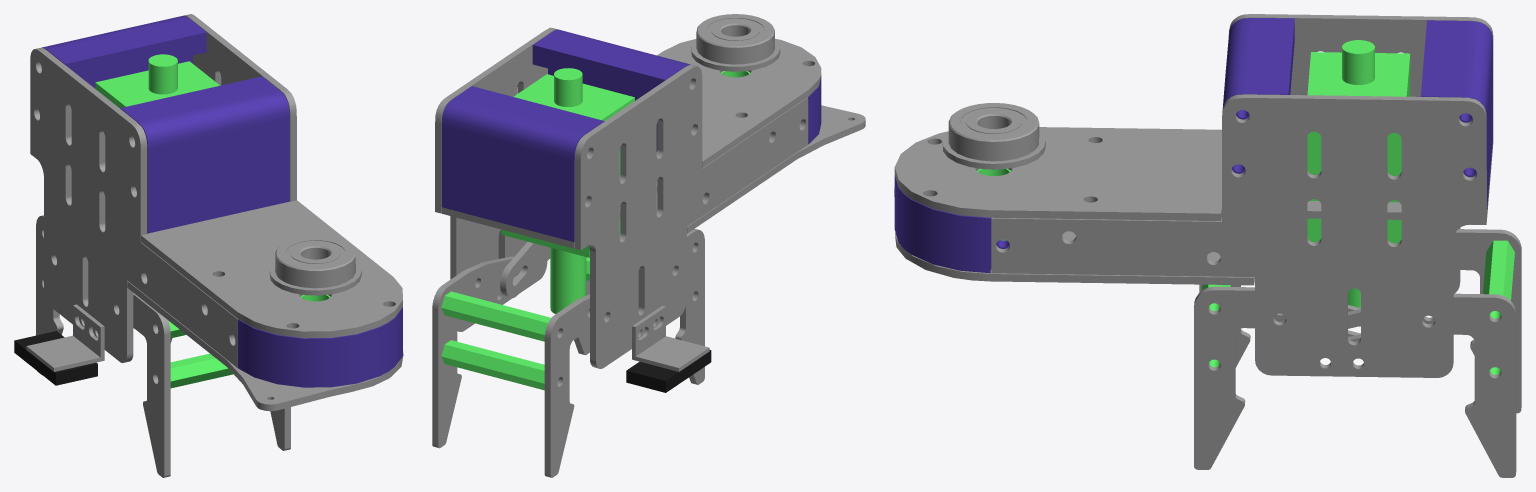
File: M3_Gripper.fbx
3 views of the same model, side by side, from view 1: azimuth 30°, elevation 25°; view 2: azimuth 150°, elevation 25°; view 3: azimuth 270°, elevation 25° (orthographic). The views are drawn at different scales.
Visible parts, largest first — view 1: M3_Gripper; view 2: M3_Gripper; view 3: M3_Gripper.
Part boxes in pixels (<box>): M3_Gripper: <box>14,14,403,477</box>; M3_Gripper: <box>432,14,865,477</box>; M3_Gripper: <box>894,14,1521,477</box>.
Bounding box in the file's own units: 6.5 × 10.48 × 15.17.
